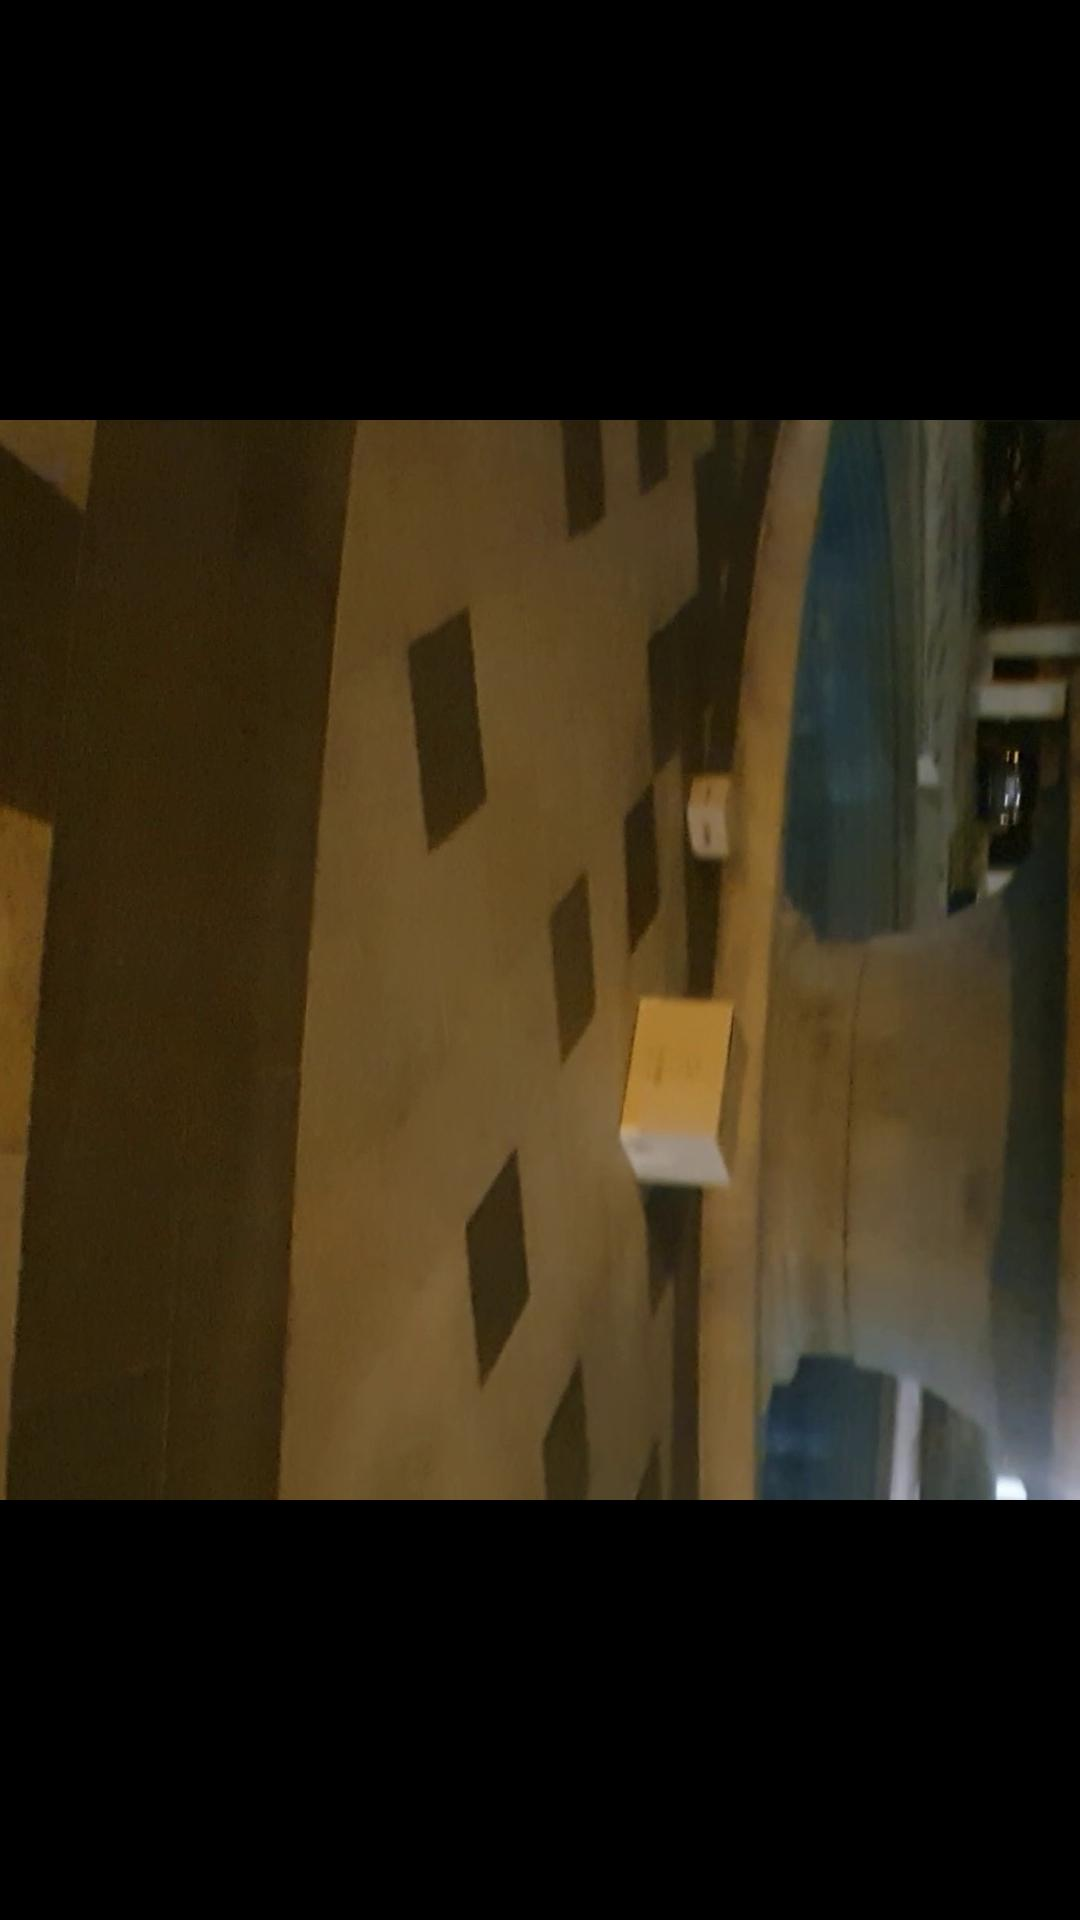Box: (611, 1001, 760, 1187), (675, 766, 742, 870)
